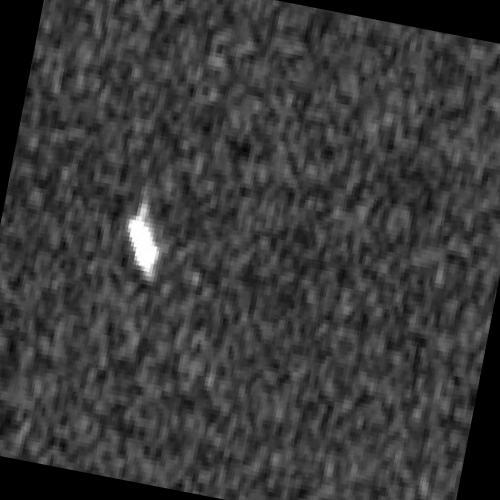ship: (126, 209, 160, 274)
